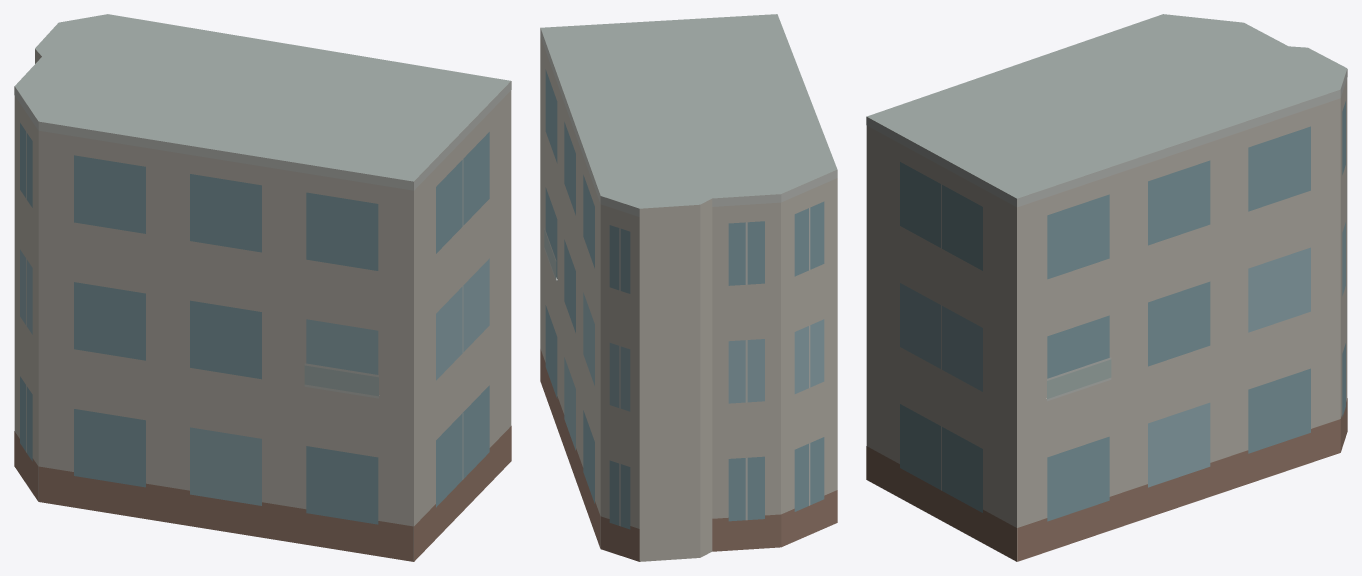
The model's file is survey-upis-32749258.glb.
The picture shows the model from 3 angles, left to right: view 1: azimuth 30°, elevation 25°; view 2: azimuth 150°, elevation 25°; view 3: azimuth 270°, elevation 25°; orthographic projection. The views are drawn at different scales.
Parts seen in each view (by area): view 1: survey-upis-32749258.tmp; view 2: survey-upis-32749258.tmp; view 3: survey-upis-32749258.tmp.
Part boxes in pixels (box(x1,y1,x2,y2)): survey-upis-32749258.tmp: box(14, 14, 511, 561); survey-upis-32749258.tmp: box(540, 14, 837, 561); survey-upis-32749258.tmp: box(866, 14, 1347, 561).
Bounding box in the file's own units: 11.13 × 10.2 × 12.25.
